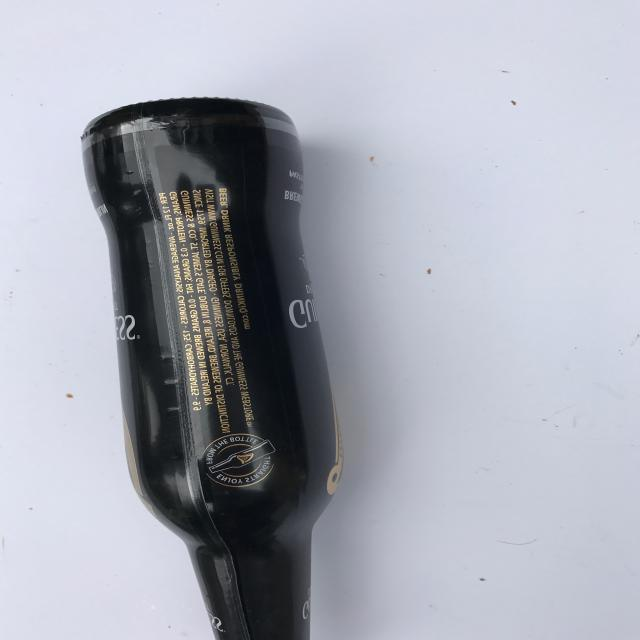glass: (81, 95, 345, 640)
